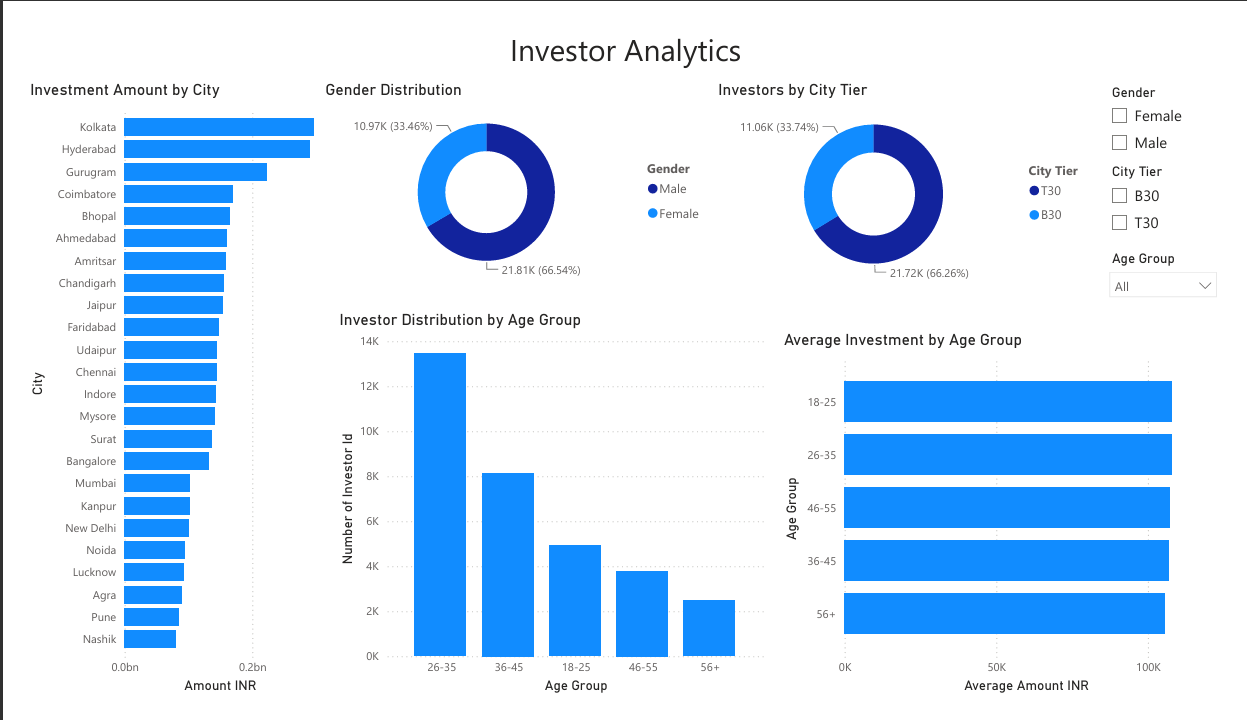

What the dashboard file says about the page in this screenshot:
{"tool":"powerbi","page":{"name":"Investor Analytics","canvas":[1280,720],"ordinal":2},"visuals":[{"type":"clusteredBarChart","title":"Investment Amount by City","fields":{"Category":["transactions_clean.city"],"Y":["Sum(transactions_clean.amount_inr)"]},"box":[0,59.7,329.9,659.7],"z":0},{"type":"donutChart","title":"Gender Distribution","fields":{"Category":["transactions_clean.gender"],"Y":["CountNonNull(transactions_clean.investor_id)"]},"box":[314.9,59.7,419.4,220.9],"z":1000},{"type":"clusteredColumnChart","title":"Investor Distribution by Age Group","fields":{"Category":["transactions_clean.age_group"],"Y":["CountNonNull(transactions_clean.investor_id)"]},"box":[329.9,306,462.7,413.4],"z":2000},{"type":"barChart","title":"Average Investment by Age Group","fields":{"Category":["transactions_clean.age_group"],"Y":["Avg(transactions_clean.amount_inr)"]},"box":[804.5,326.9,476.1,392.5],"z":3000},{"type":"donutChart","title":"Investors by City Tier","fields":{"Category":["transactions_clean.city_tier"],"Y":["CountNonNull(transactions_clean.investor_id)"]},"box":[734.3,59.7,411.9,225.4],"z":4000},{"type":"slicer","fields":{"Values":["transactions_clean.gender"]},"box":[1146.3,59.7,134.3,92.5],"z":5000},{"type":"slicer","fields":{"Values":["transactions_clean.city_tier"]},"box":[1146.3,144.8,134.3,92.5],"z":6000},{"type":"slicer","fields":{"Values":["transactions_clean.age_group"]},"box":[1146.3,237.3,134.3,68.7],"z":7000},{"type":"textbox","box":[0,0,1280.6,59.7],"z":8000}]}

Visuals, with their boxes in screenshot pixels (x1, y1, x2, y2), scaled from the page's 1280x720 canvas onto the 1247x720 screenshot:
"Investment Amount by City" clusteredBarChart: rect(0, 60, 321, 719)
"Gender Distribution" donutChart: rect(307, 60, 715, 281)
"Investor Distribution by Age Group" clusteredColumnChart: rect(321, 306, 772, 719)
"Average Investment by Age Group" barChart: rect(784, 327, 1246, 719)
"Investors by City Tier" donutChart: rect(715, 60, 1117, 285)
slicer - transactions_clean.gender: rect(1117, 60, 1246, 152)
slicer - transactions_clean.city_tier: rect(1117, 145, 1246, 237)
slicer - transactions_clean.age_group: rect(1117, 237, 1246, 306)
textbox: rect(0, 0, 1246, 60)
